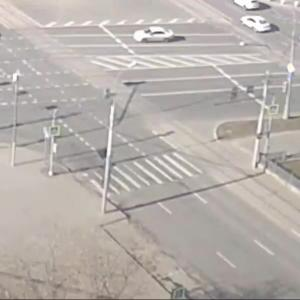car: (135, 27, 176, 45), (241, 15, 276, 36), (232, 1, 263, 13)
